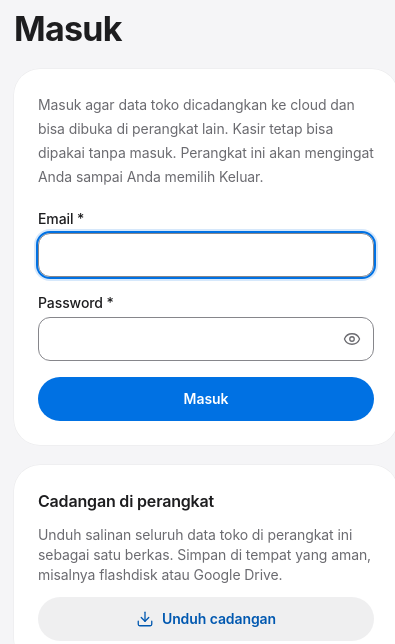
Test: Masuk: signed out › can reveal and hide the password without clearing it
The width and height of the screenshot is (395, 644).
Type "rahasia" into the password field labelled "Password".
click(206, 339); type("rahasia")  # box [38, 317, 374, 361]
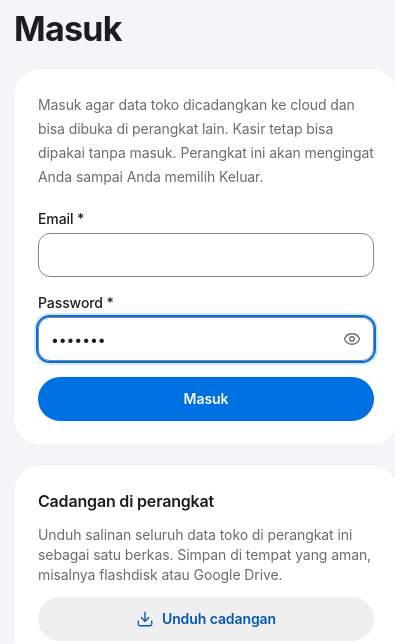
Click the button named "Tampilkan kata sandi".
click(352, 339)  # box [330, 317, 374, 361]
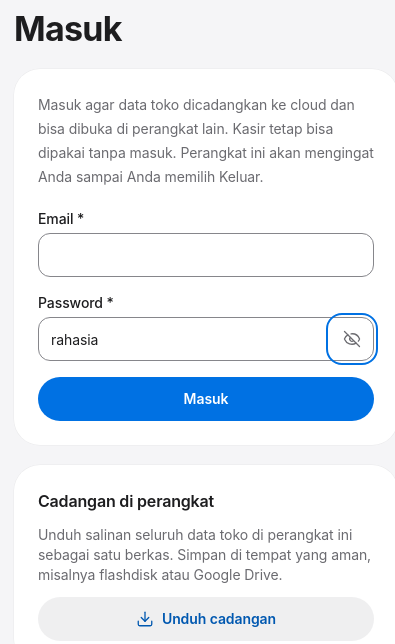
Now the field labelled "Password" shows its text, box [38, 317, 374, 361]
Click the button named "Sembunyikan kata sandi".
click(352, 339)  # box [330, 317, 374, 361]
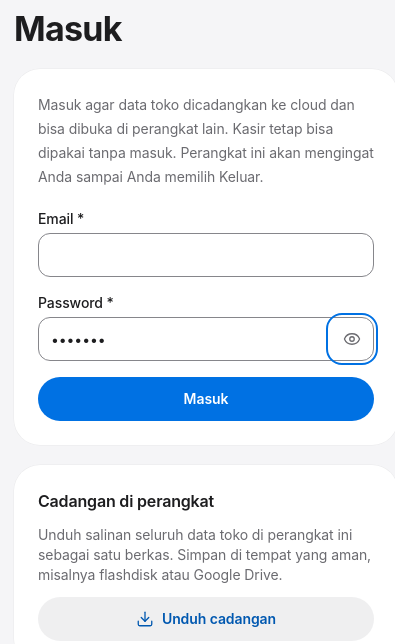
Now the password field labelled "Password" hides its text, box [38, 317, 374, 361]
